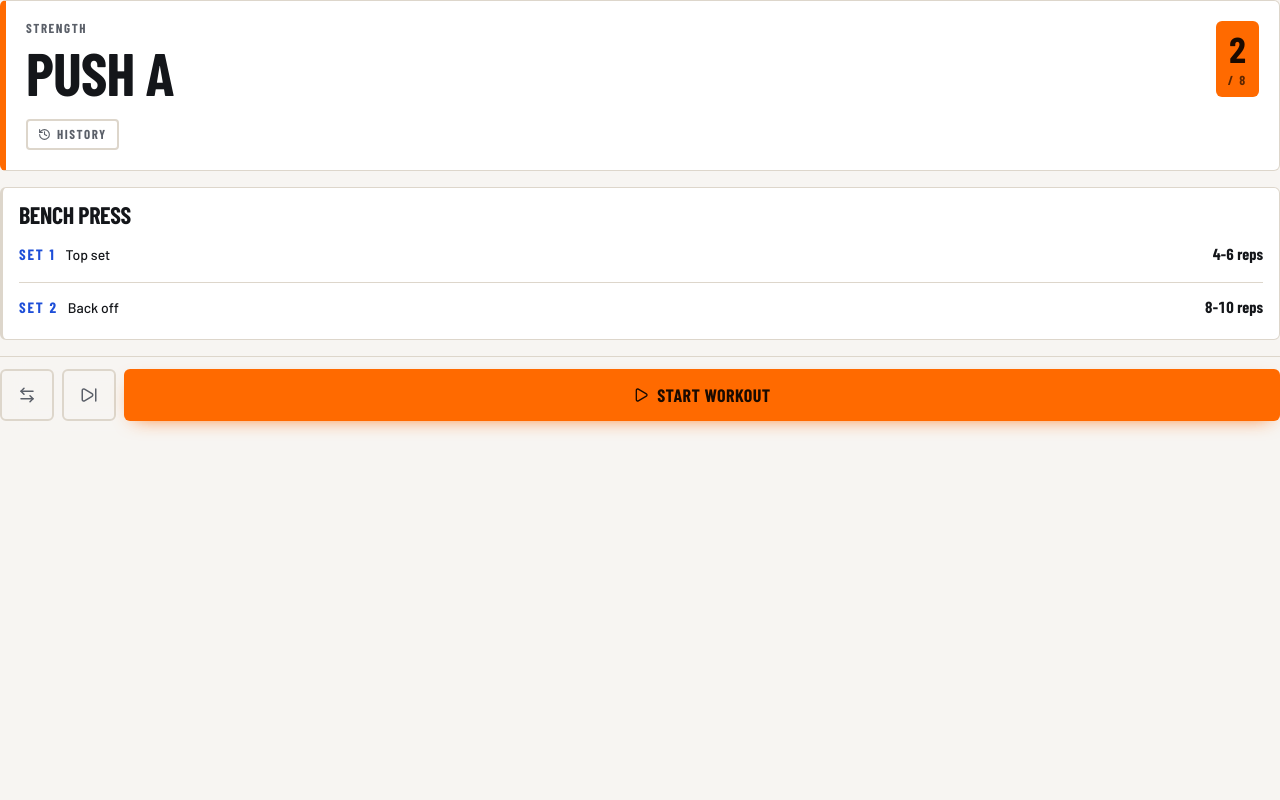
Test: TodayWorkout › lists the day being read as not to pick
The width and height of the screenshot is (1280, 800).
Click the button named "Change day" at [27, 395], box 0,369 -> 54,421
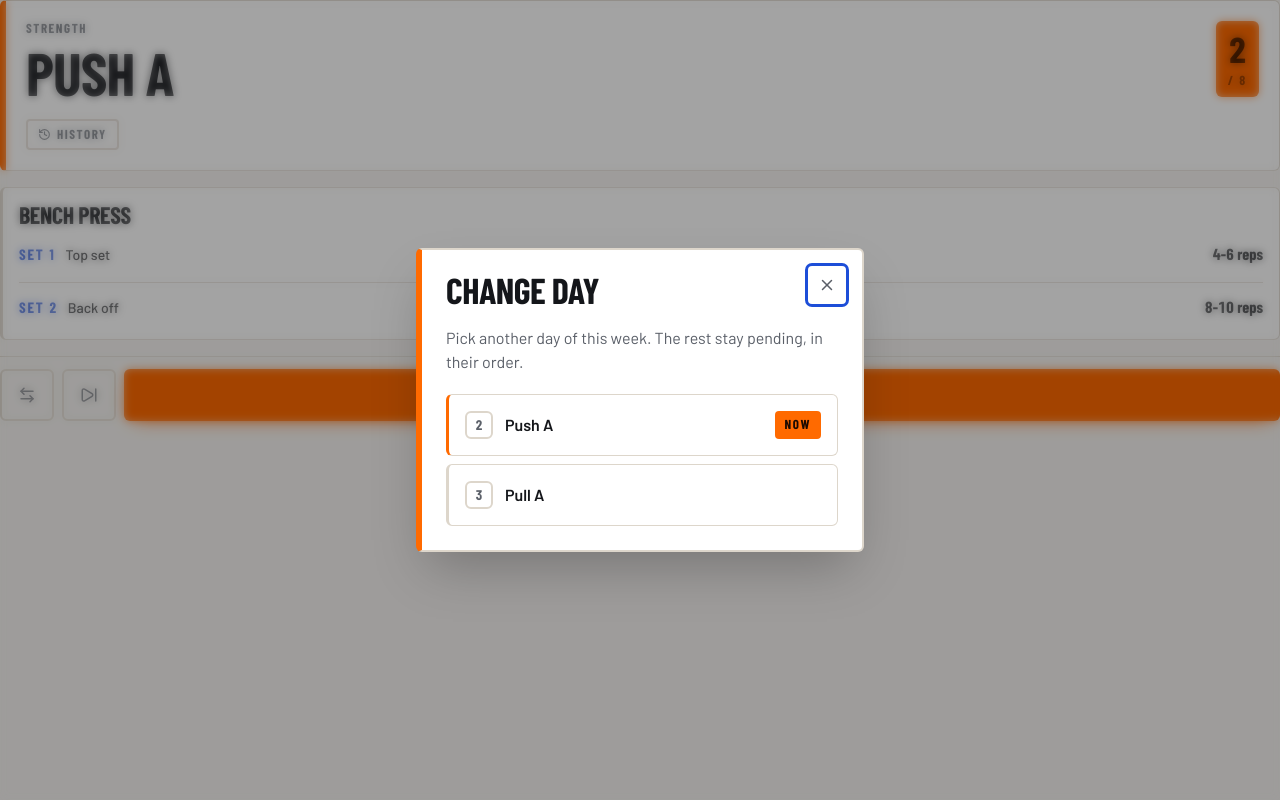
Check: the button "2 Push A Now" is disabled, box 446,394 -> 838,456
Check: the text "Now" is shown, box 774,411 -> 821,439
